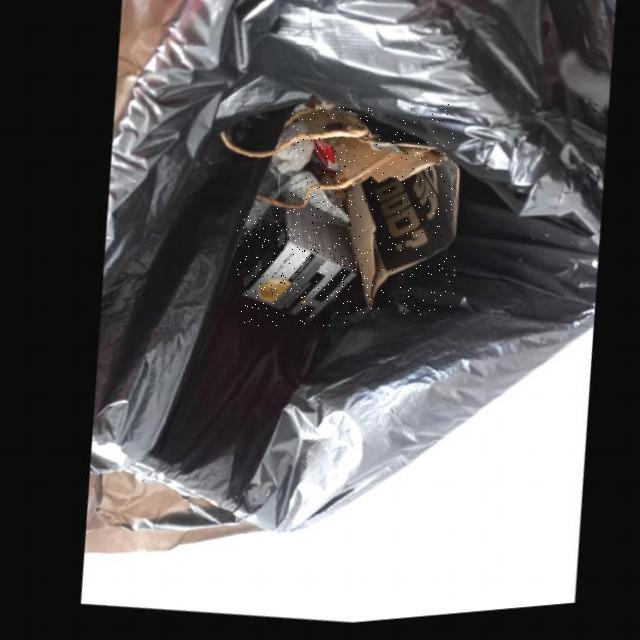paper: (291, 104, 455, 315), (237, 209, 352, 326)
